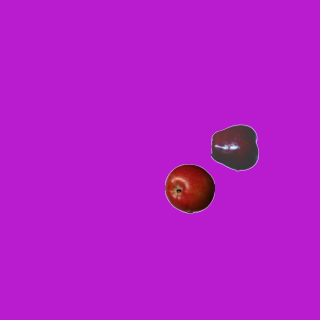Apple Braeburn: (164, 163, 214, 213)
Apple Red Delicious: (210, 122, 260, 172)
